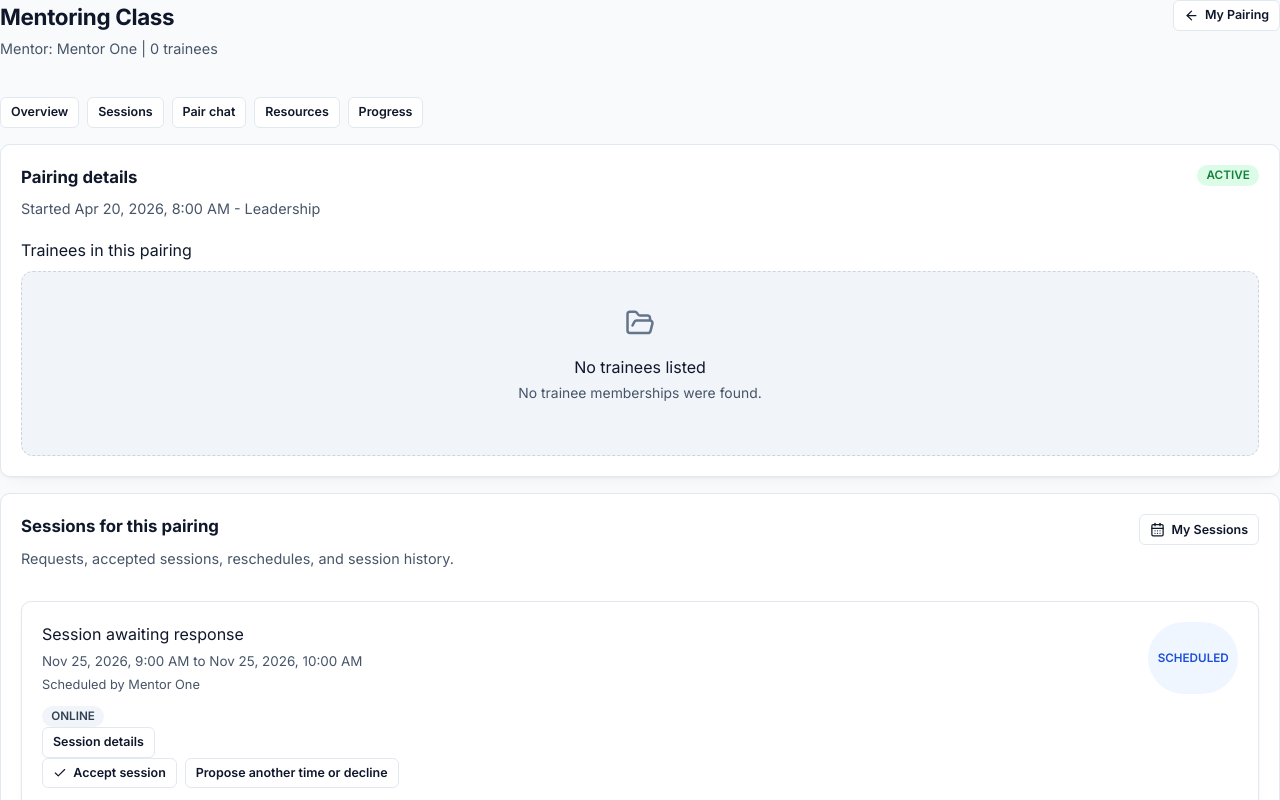
Test: MentoringPairingDetailPage › shows requested, confirmed, and declined sessions to the trainee and allows accepting an invitation
Click the tab "Sessions": (125, 113) [87,97,164,128]
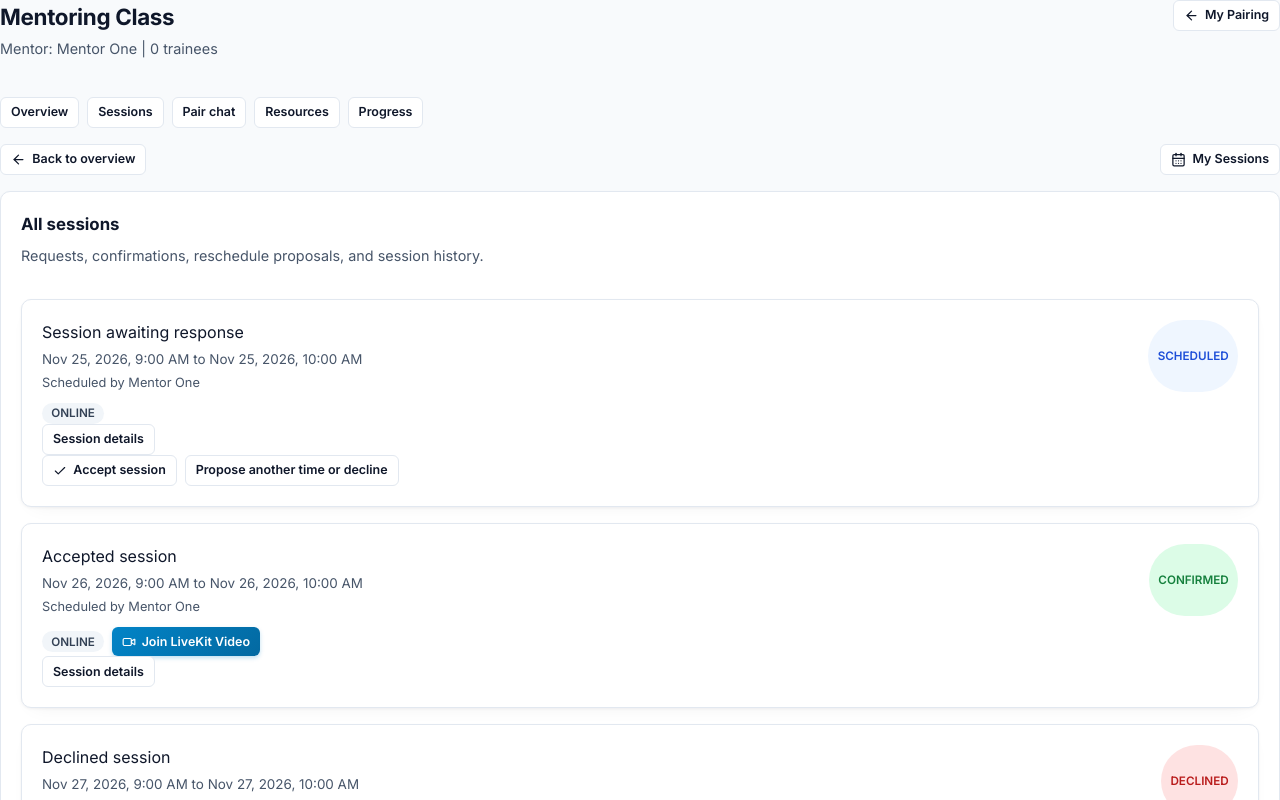
Expected: the heading "Session awaiting response" is shown, [42,322,244,342]
Expected: the heading "Accepted session" is shown, [42,546,177,566]
Click the button "Accept session": (109, 471) [42,455,177,486]
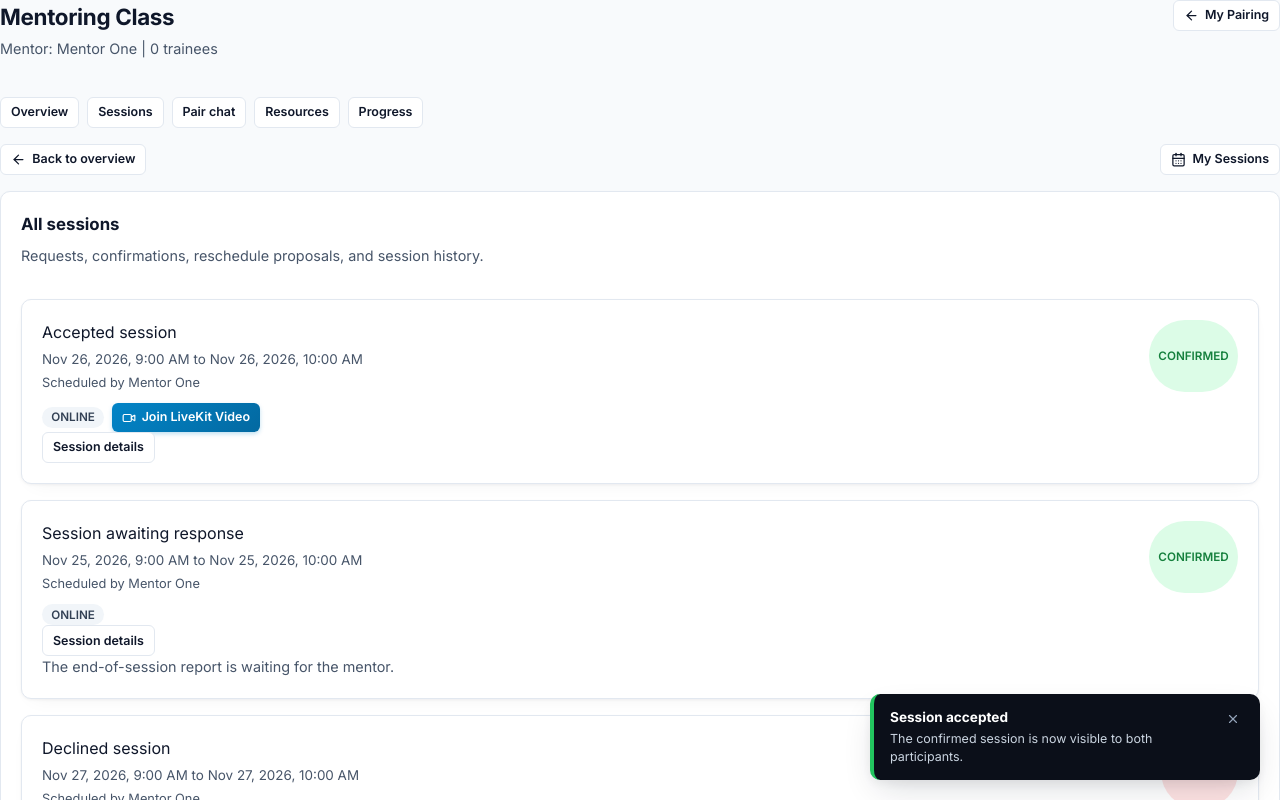
Expected: the text "Session awaiting response" is shown, [42,523,244,543]
Expected: the text "Session accepted" is shown, [890,709,1008,725]
Expected: the text "CONFIRMED" in the row of "Nov 25, 2026, 10:00 AM" is shown, [1158,550,1229,564]
